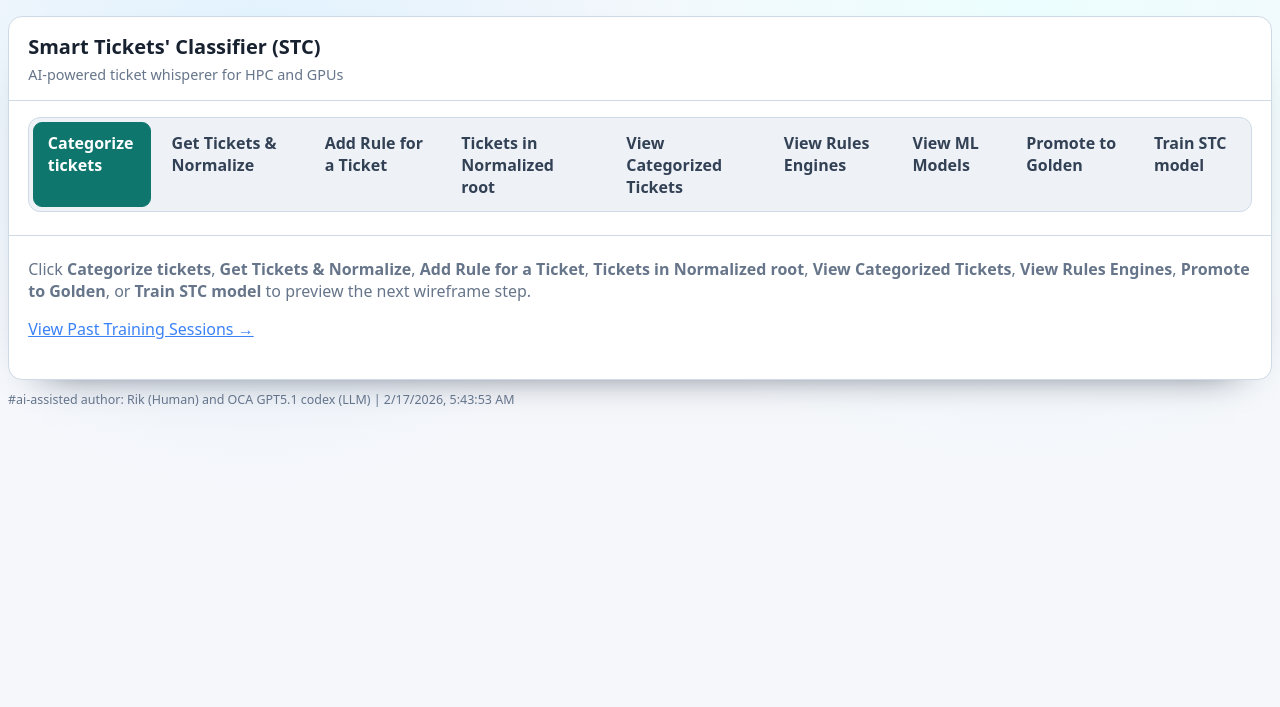
Test: STC wireframe flow › lists categorized ticket files from analysis and previews selected content
The image size is (1280, 707).
Click the link "View Categorized Tickets" at (674, 165), box [626, 132, 722, 198]
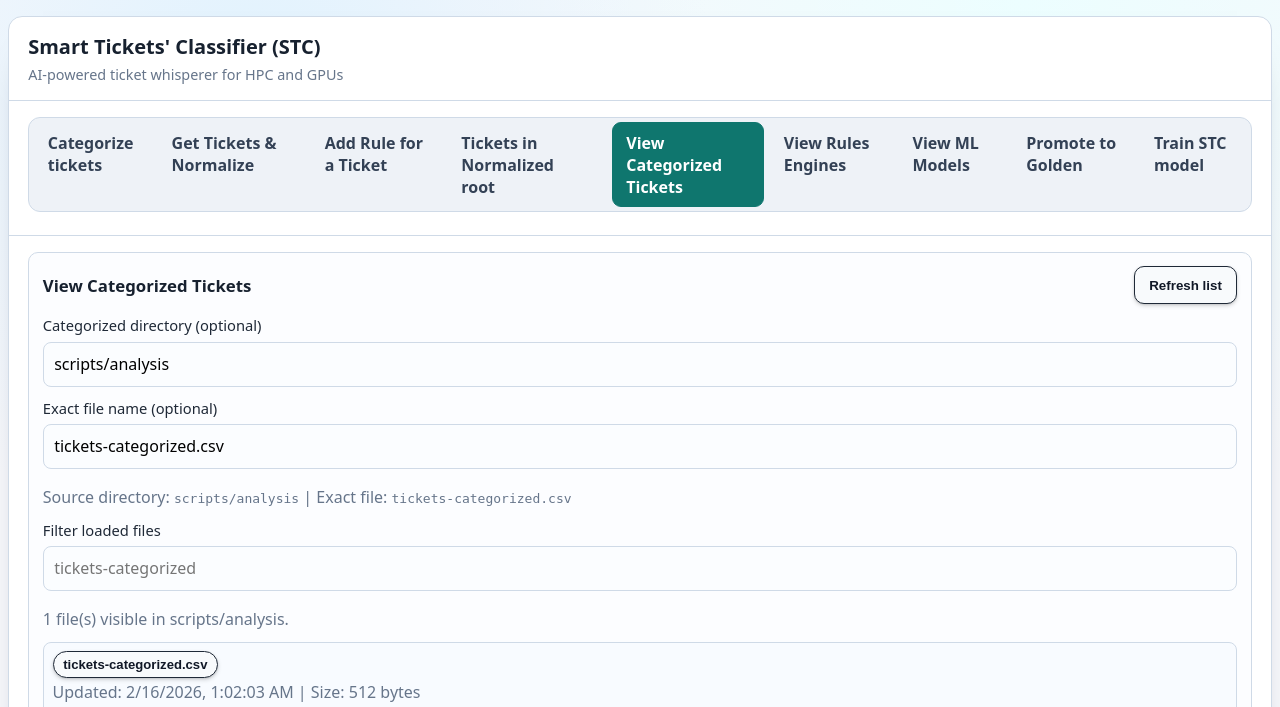
Click the button "tickets-categorized.csv" at (135, 665), box [53, 651, 218, 678]
(page scrolled)
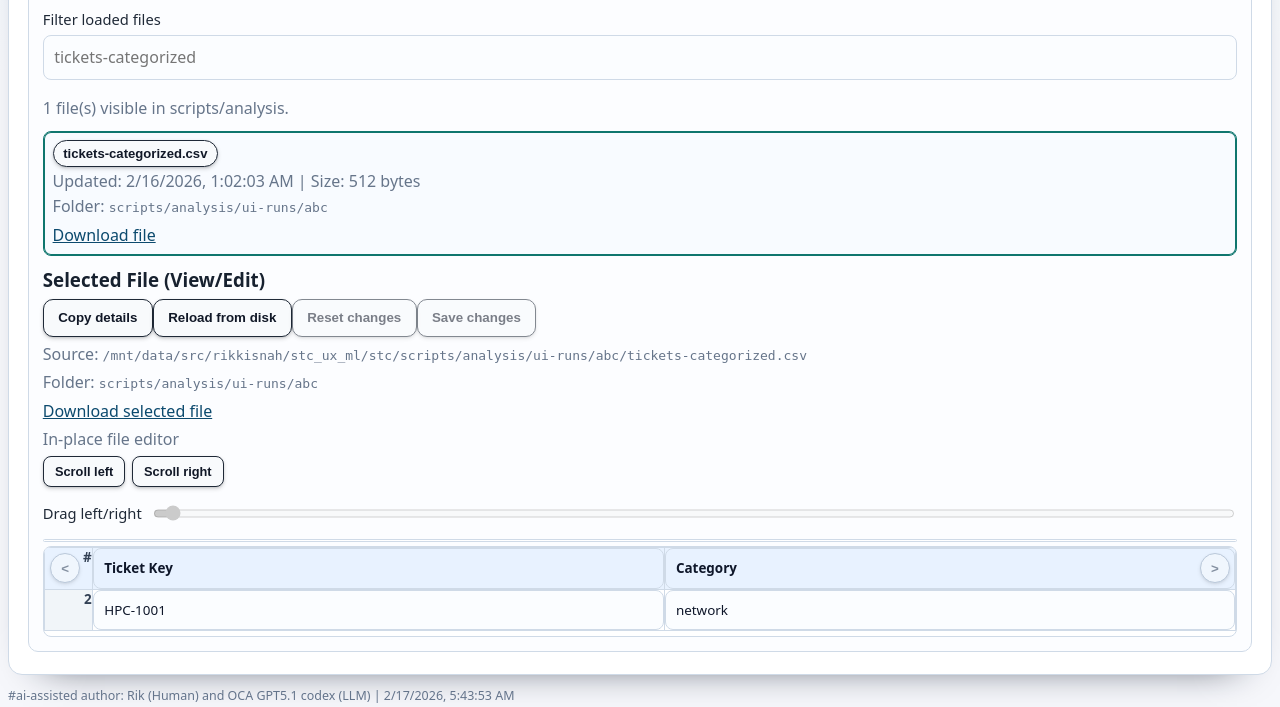
Now the heading "Selected File (View/Edit)" is shown, box [43, 267, 265, 292]
Now the text "In-place file editor" is shown, box [43, 428, 179, 450]
Now the 3rd field showing "HPC-1001" is shown, box [93, 590, 664, 630]
Replace the text in the 4th field showing "network" with "storage" at (950, 610), box [664, 590, 1235, 630]
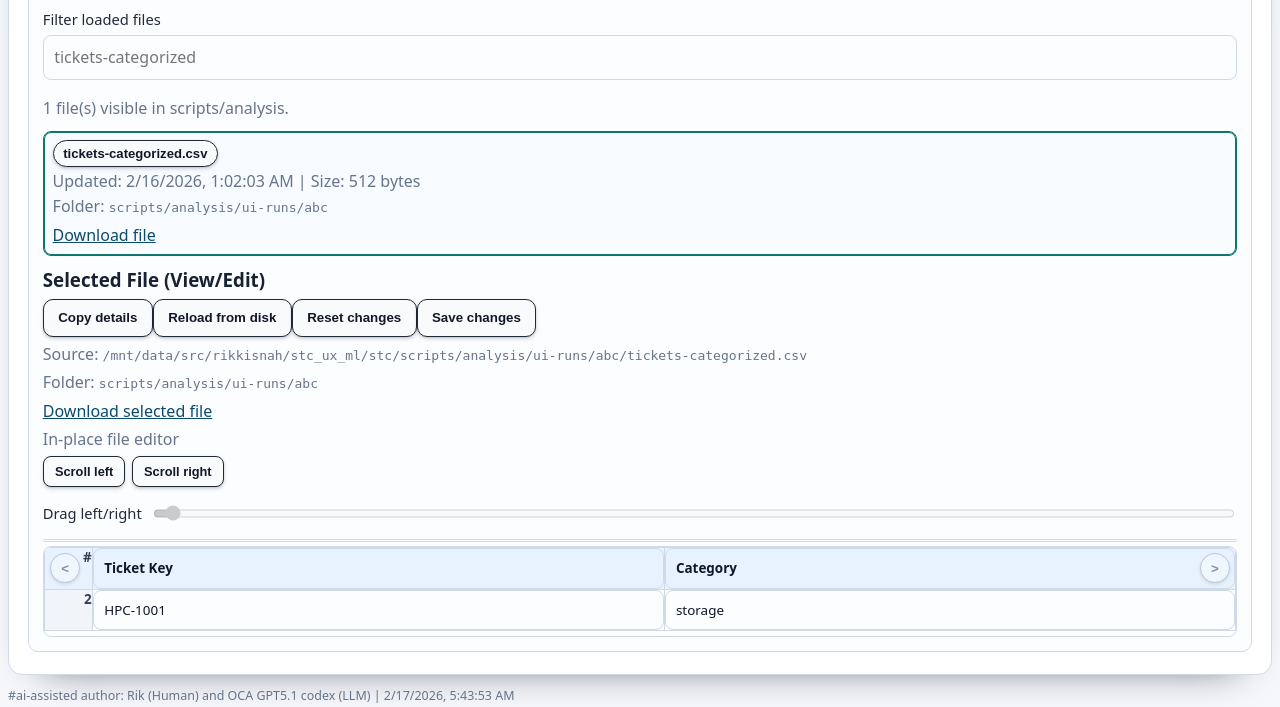
Click the button "Save changes" at (476, 318), box [417, 299, 536, 337]
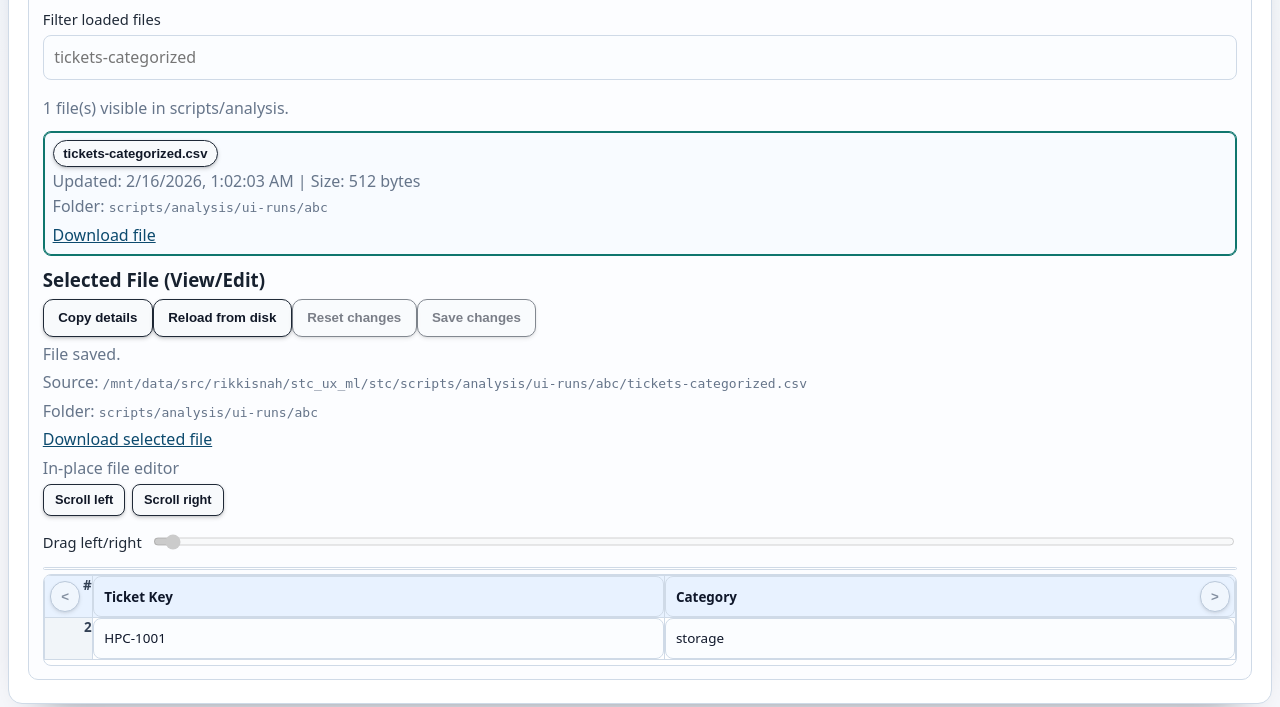
Now the text "File saved." is shown, box [43, 343, 120, 365]
